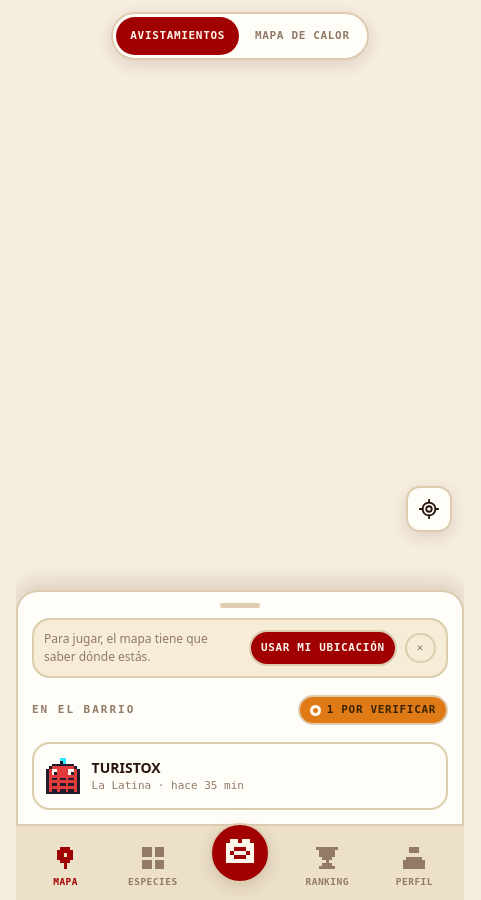
Test case: map continuity across the app’s screens (LCHP-56) › back from Especies the map is where it was, the position on it, before any new fix
Click the button "Usar mi ubicación".
click(323, 648)  # box [249, 630, 397, 666]
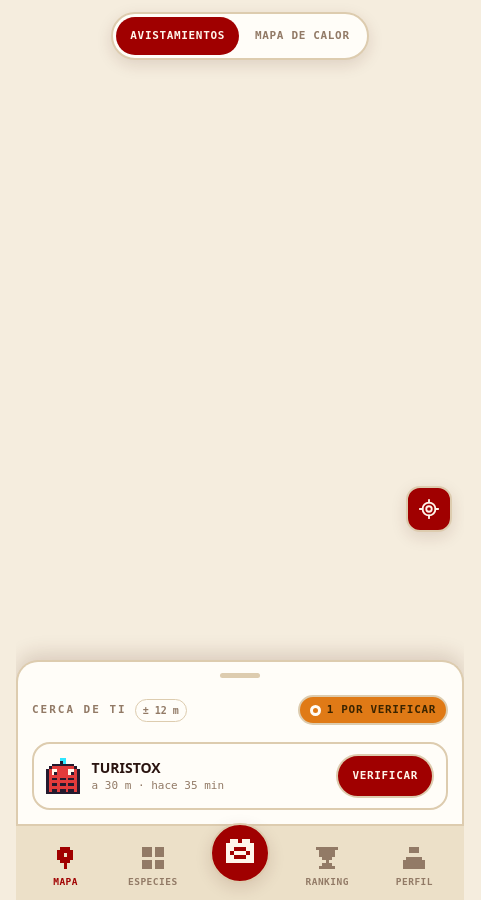
Expected: the text "± 12 m" is shown, [135, 698, 187, 722]
Click the link "Especies".
click(153, 867)  # box [128, 847, 178, 887]
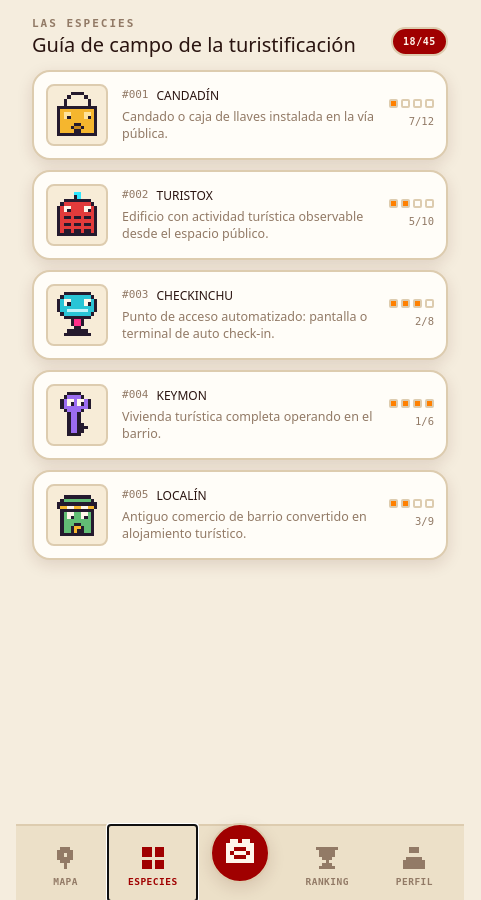
Click the link "Mapa".
click(66, 867)  # box [53, 847, 78, 887]
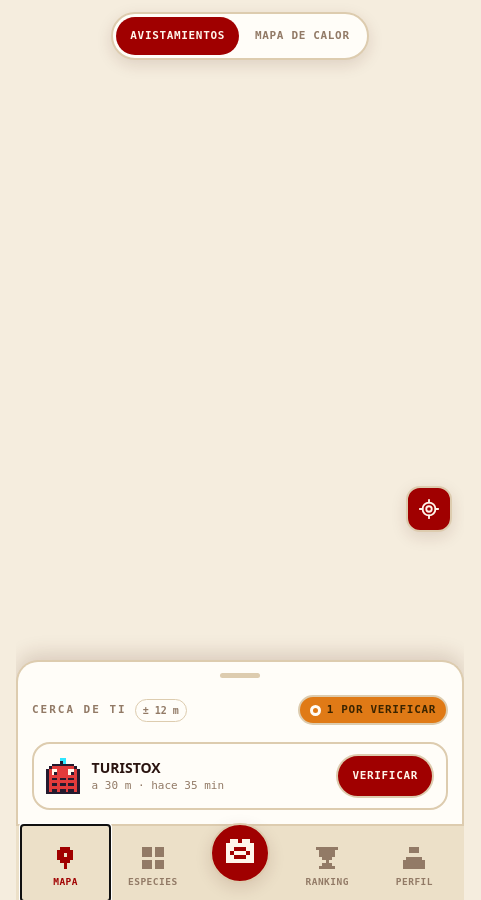
Expected: the text "± 12 m" is shown, [135, 698, 187, 722]
Expected: the text "Cerca de ti" is shown, [32, 702, 127, 718]
